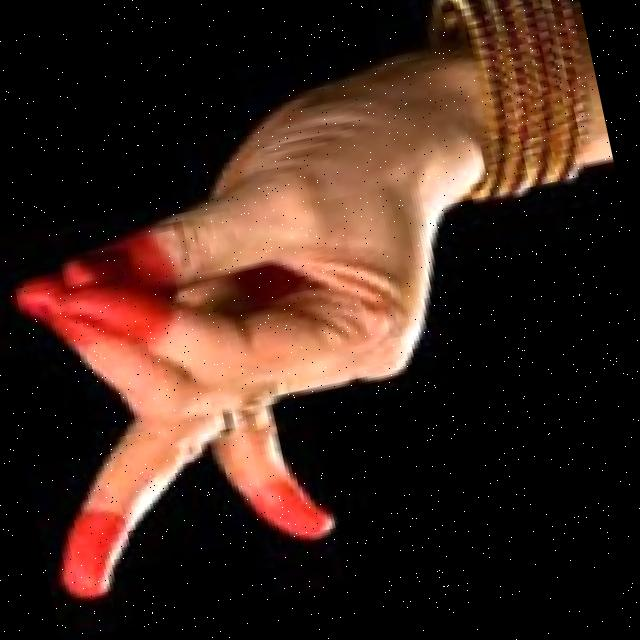Katakamukha: (0, 59, 535, 637)
